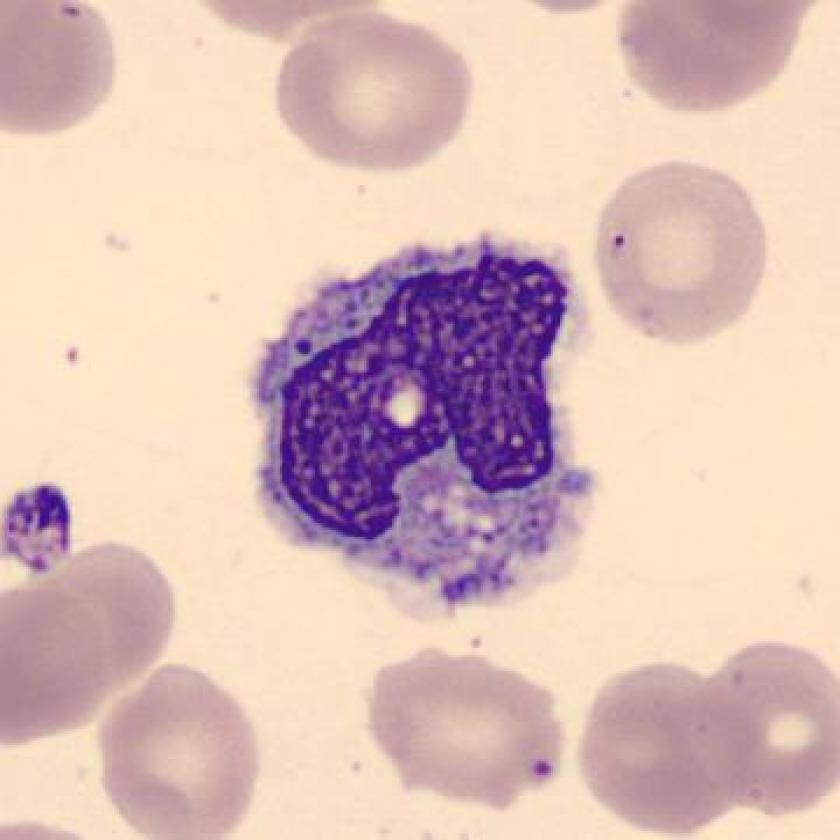monocyte: (230, 216, 640, 626)
